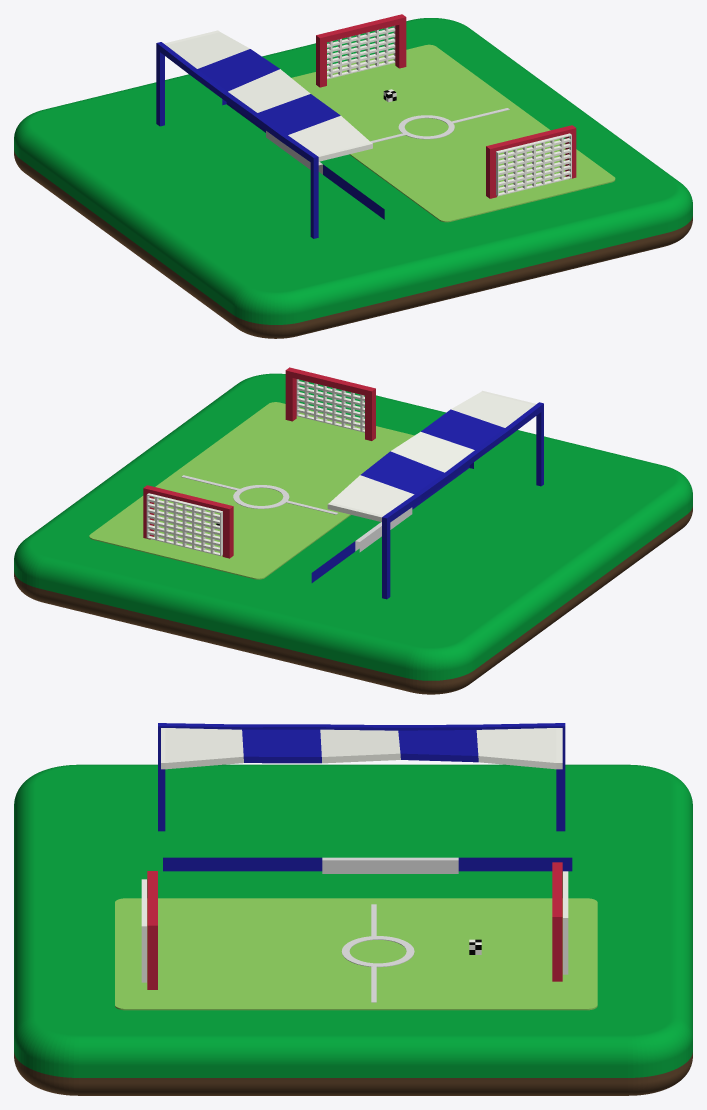
The model's file is islandFootball.glb.
The picture shows the model from 3 angles, top to bottom: view 1: azimuth 30°, elevation 25°; view 2: azimuth 150°, elevation 25°; view 3: azimuth 270°, elevation 25°; orthographic projection. The views are drawn at different scales.
Parts seen in each view (by area): view 1: Island.003, Football field.001, Tribuns.001, Gates2.001, Gates.001, Shiled.001, FootballDraw.001; view 2: Island.003, Football field.001, Tribuns.001, Gates.001, Gates2.001, Shiled.001, FootballDraw.001; view 3: Island.003, Football field.001, Tribuns.001, Shiled.001, Gates.001, Gates2.001, FootballDraw.001.
Part boxes in pixels (<box>): Island.003: <box>14,18,692,338</box>; Football field.001: <box>291,44,615,222</box>; Tribuns.001: <box>156,30,372,238</box>; Gates2.001: <box>486,125,576,198</box>; Gates.001: <box>316,14,406,87</box>; Shiled.001: <box>222,99,384,219</box>; FootballDraw.001: <box>370,108,509,143</box>; Island.003: <box>14,373,692,694</box>; Football field.001: <box>89,402,414,579</box>; Tribuns.001: <box>327,390,543,599</box>; Gates.001: <box>143,485,233,558</box>; Gates2.001: <box>285,367,375,440</box>; Shiled.001: <box>311,462,473,582</box>; FootballDraw.001: <box>181,475,338,514</box>; Island.003: <box>14,764,692,1095</box>; Football field.001: <box>115,898,597,1010</box>; Tribuns.001: <box>158,723,565,831</box>; Shiled.001: <box>163,857,572,873</box>; Gates.001: <box>552,862,568,981</box>; Gates2.001: <box>141,871,157,989</box>; FootballDraw.001: <box>341,904,414,1002</box>.
Size of the model in its own units: 6 by 1.67 by 6.
